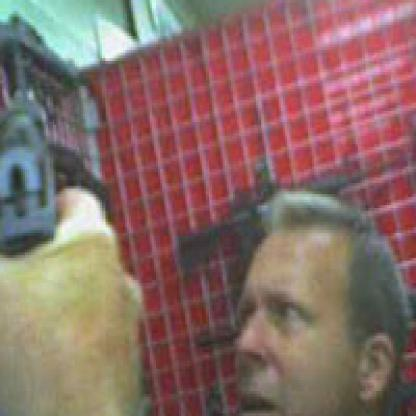gun: (0, 80, 75, 261)
